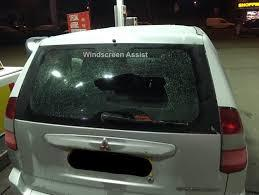Rear-windscreen-Damage: (23, 42, 218, 131)
